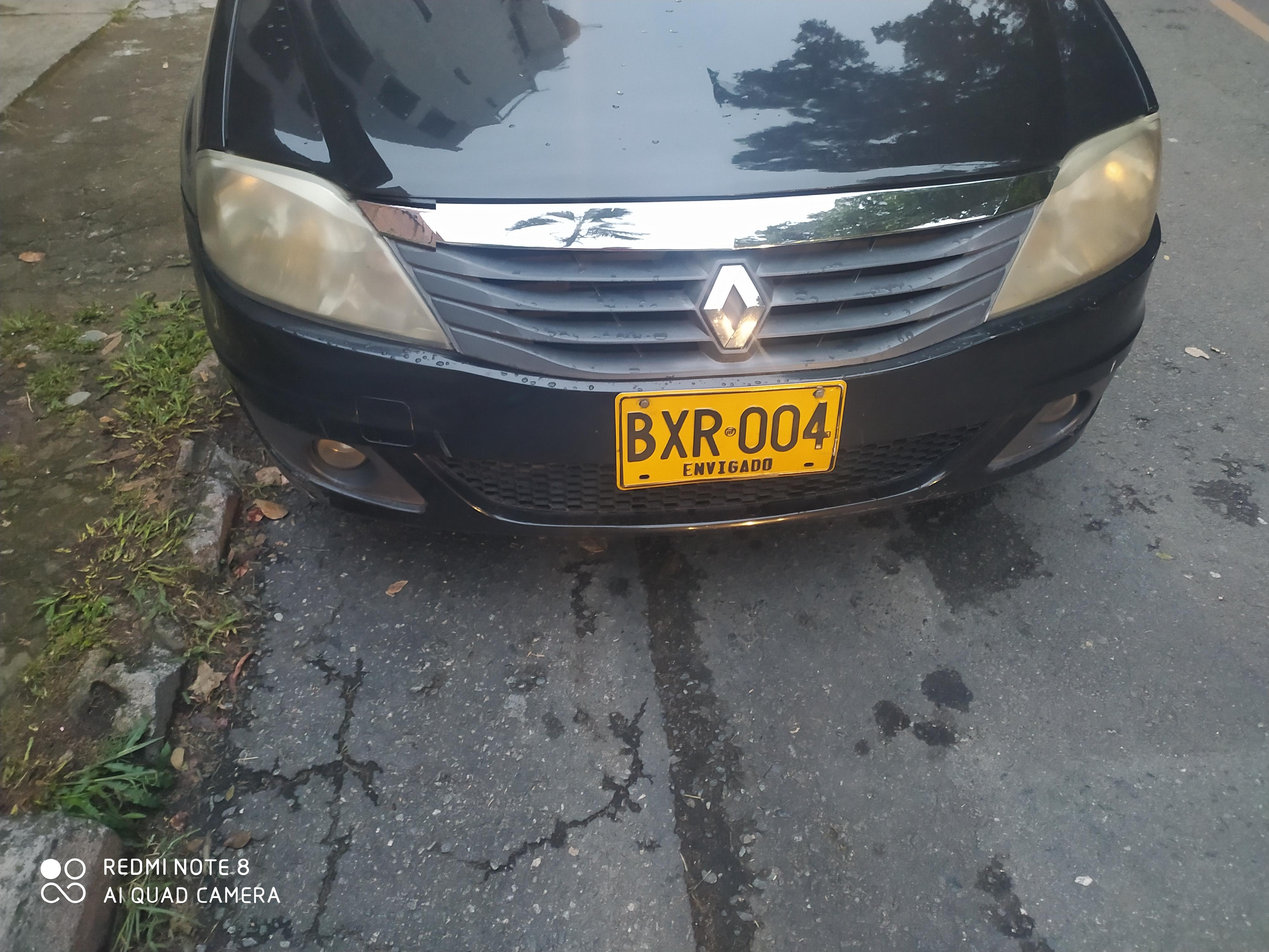placa: (603, 377, 852, 492)
